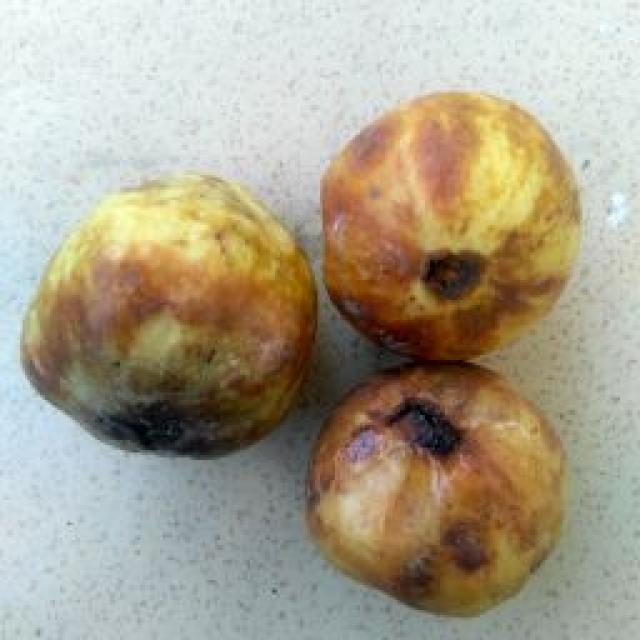Bad_Guava: (21, 172, 316, 456), (308, 364, 561, 614)
